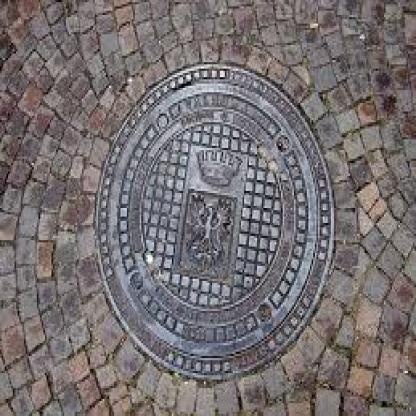closed manhole-not overflowing-: (96, 68, 338, 379)
